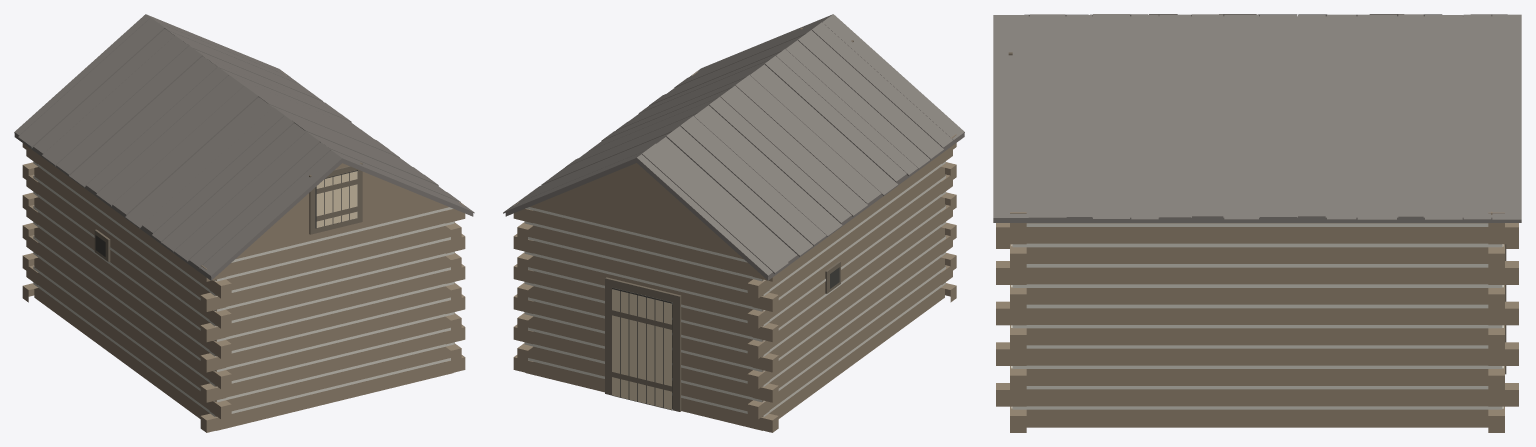
File: recon_1835_blk_lake_market_a1_06__inferred_1835.glb
3 renders of one model, left to right at view 1: azimuth 30°, elevation 25°; view 2: azimuth 150°, elevation 25°; view 3: azimuth 270°, elevation 25°, orthographic. The views are drawn at different scales.
Parts seen in each view (by area): view 1: recon_1835_blk_lake_market_a1_06__inferred_1835; view 2: recon_1835_blk_lake_market_a1_06__inferred_1835; view 3: recon_1835_blk_lake_market_a1_06__inferred_1835.
Boxes of the visible parts, x1=… form: recon_1835_blk_lake_market_a1_06__inferred_1835: x1=14, y1=14, x2=474, y2=432; recon_1835_blk_lake_market_a1_06__inferred_1835: x1=503, y1=14, x2=964, y2=432; recon_1835_blk_lake_market_a1_06__inferred_1835: x1=993, y1=14, x2=1521, y2=432.
Bounding box in the file's own units: 5.96 × 5.32 × 7.59.
